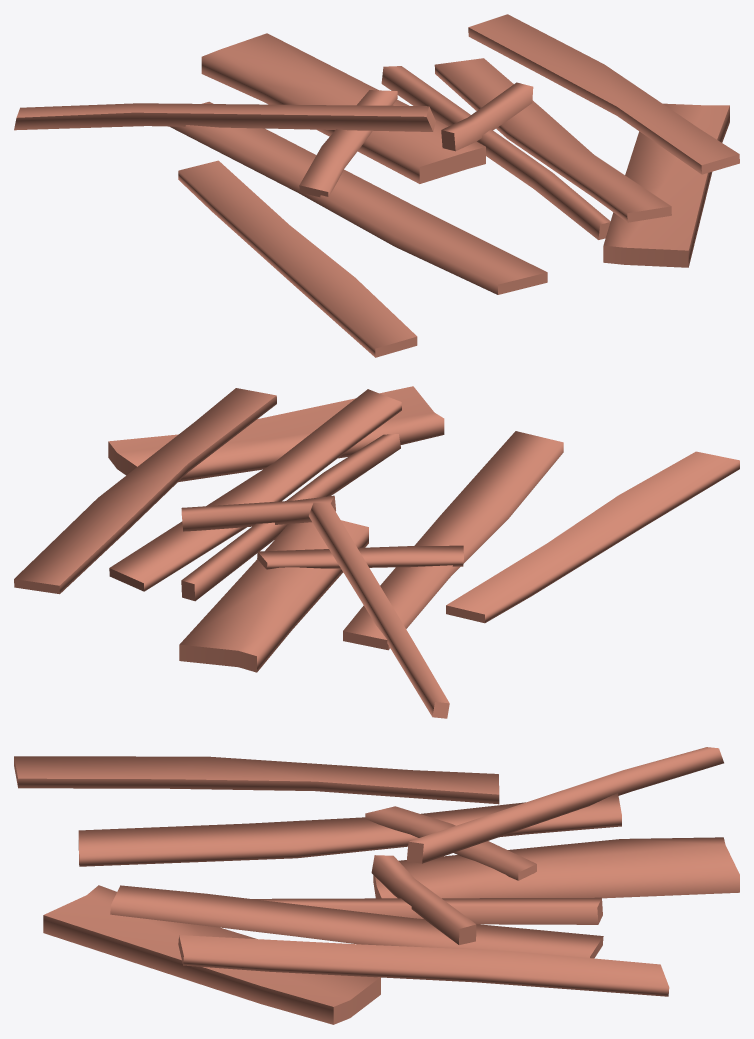
The model's file is prop_wood_g.fbx.
3 views of the same model, one above another, from view 1: azimuth 30°, elevation 25°; view 2: azimuth 150°, elevation 25°; view 3: azimuth 270°, elevation 25° (orthographic). The views are drawn at different scales.
Parts seen in each view (by area): view 1: Cube.220; view 2: Cube.220; view 3: Cube.220.
Boxes of the visible parts, x1,y1,x2,y2 form: Cube.220: (14,14,739,357); Cube.220: (14,386,739,718); Cube.220: (14,747,739,1024).
Size of the model in its own units: 3.74 by 0.3821 by 4.2.
